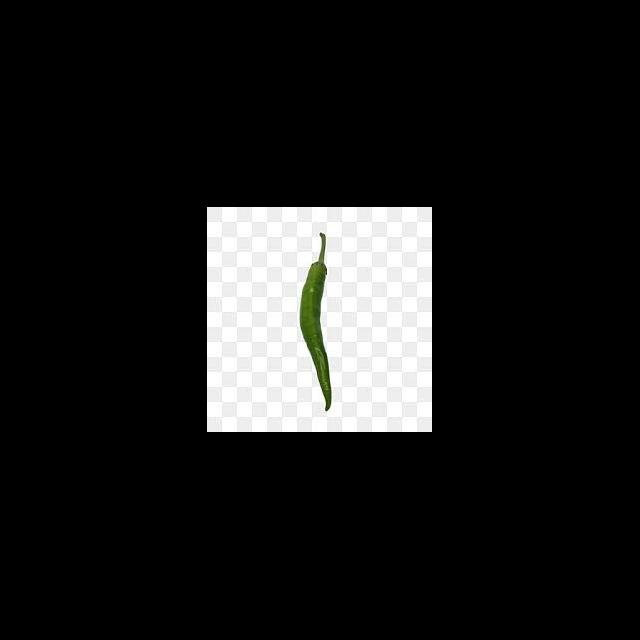chili_pepper: (298, 250, 332, 410)
